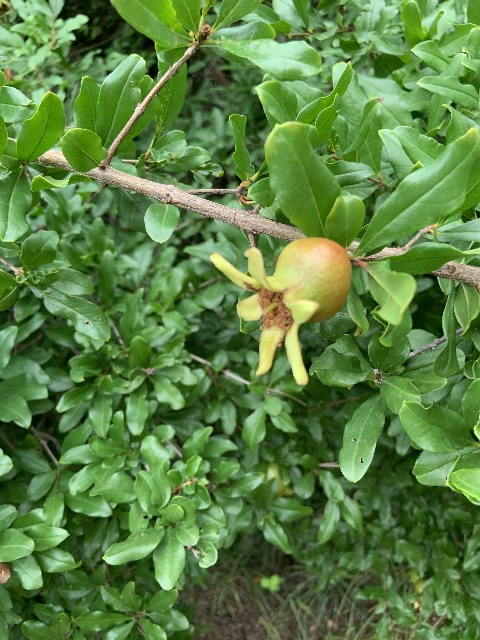early-fruit: (213, 236, 352, 385)
